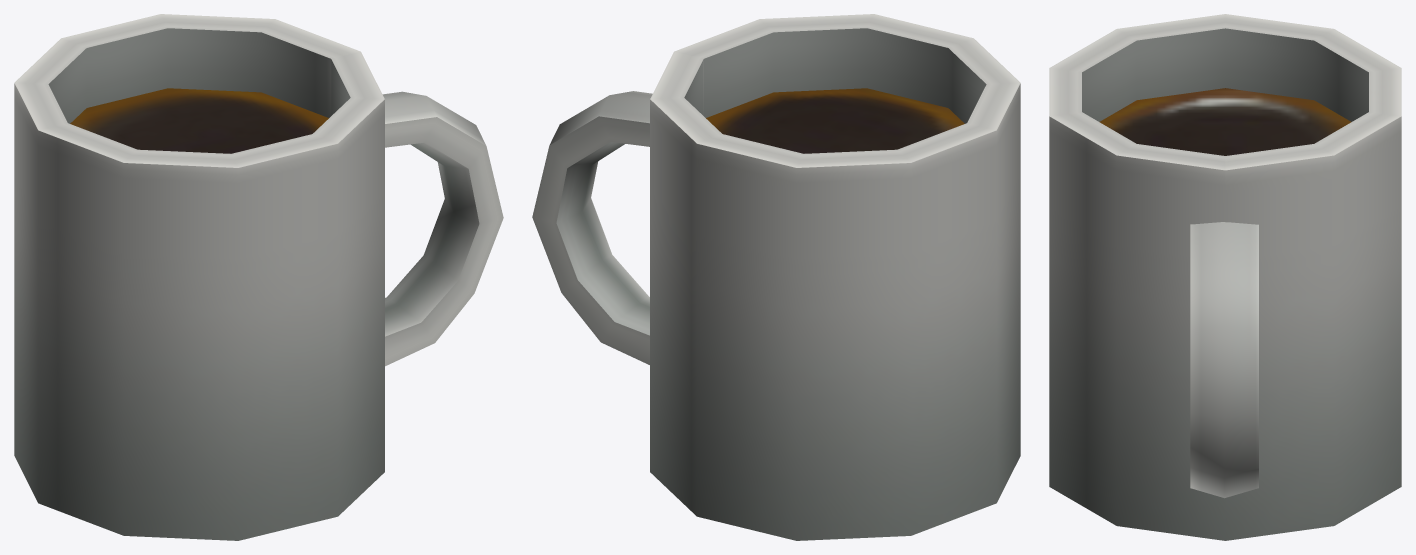
The model's file is BaoLuoGongZuoShi_01_beizi_01_uv2.FBX.
The picture shows the model from 3 angles, left to right: view 1: azimuth 30°, elevation 25°; view 2: azimuth 150°, elevation 25°; view 3: azimuth 270°, elevation 25°; orthographic projection.
Visible parts, largest first — view 1: BaoLuoGongZuoShi_01_beizi_03; view 2: BaoLuoGongZuoShi_01_beizi_03; view 3: BaoLuoGongZuoShi_01_beizi_03.
Part boxes in pixels (x1,y1,x2,y2): BaoLuoGongZuoShi_01_beizi_03: [14, 14, 503, 540]; BaoLuoGongZuoShi_01_beizi_03: [532, 14, 1020, 540]; BaoLuoGongZuoShi_01_beizi_03: [1049, 14, 1401, 540].
Bounding box in the file's own units: 119 × 92.9 × 80.02.
